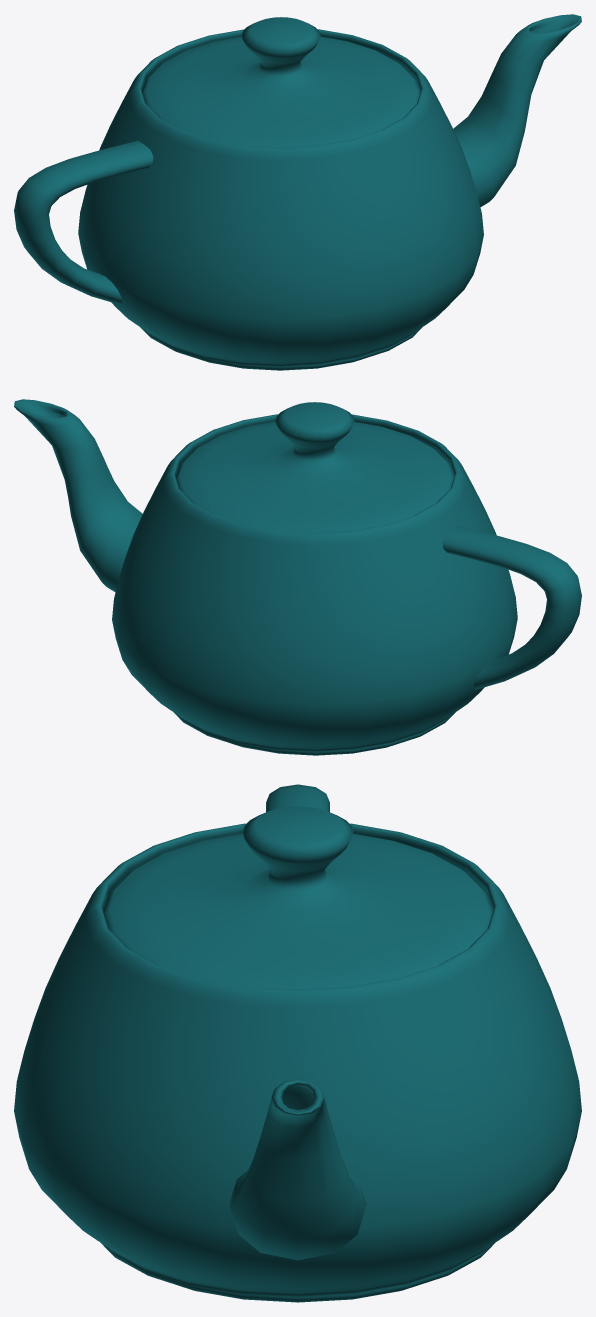
Rendered from teapot.obj.
The picture shows the model from 3 angles, top to bottom: view 1: azimuth 30°, elevation 25°; view 2: azimuth 150°, elevation 25°; view 3: azimuth 270°, elevation 25°; orthographic projection. The views are drawn at different scales.
Bounding box in the file's own units: 4.08 × 2 × 2.54.
